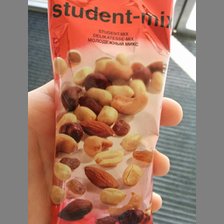nuts: (47, 1, 177, 224)
